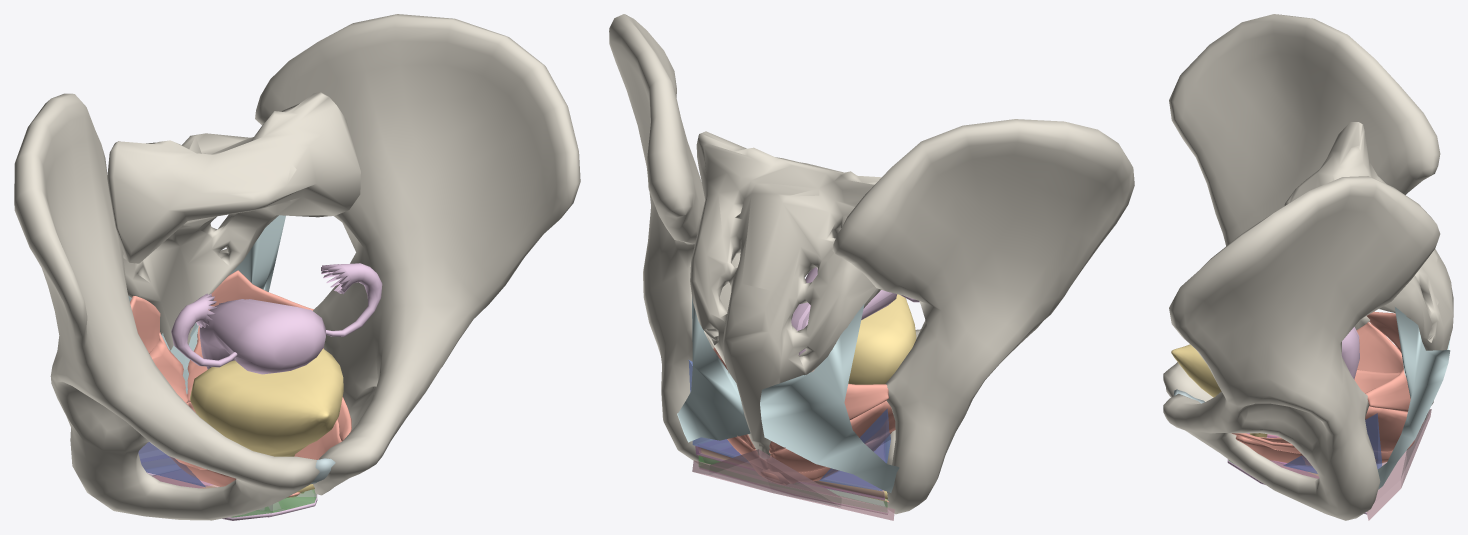
The model's file is perineum.glb.
The picture shows the model from 3 angles, left to right: view 1: azimuth 30°, elevation 25°; view 2: azimuth 150°, elevation 25°; view 3: azimuth 270°, elevation 25°; orthographic projection. The views are drawn at different scales.
Visible parts, largest first — view 1: Pubic Bones, Sacrum, Bladder, Uterus, Coccygeus, Pubococcygeus, Sacrotuberous Ligament, Ischioanal Fossa, Colles' Fascia, Superficial Perineal Pouch, Deep Perineal Pouch, Puborectalis; view 2: Pubic Bones, Sacrum, Sacrotuberous Ligament, Anal Triangle, Bladder, Iliococcygeus, Ischioanal Fossa, Deep Perineal Pouch, Coccygeus, Superficial Perineal Pouch, Uterus, Puborectalis (+2 smaller); view 3: Pubic Bones, Sacrum, Sacrotuberous Ligament, Iliococcygeus, Coccygeus, Anal Triangle, Bladder, Puborectalis, Ischioanal Fossa, Pubococcygeus, Uterus, Deep Perineal Pouch.
Part boxes in pixels (x1,y1,x2,y2): Pubic Bones: (14, 14, 580, 520); Sacrum: (107, 92, 360, 350); Bladder: (190, 348, 343, 456); Uterus: (171, 263, 382, 374); Coccygeus: (130, 270, 313, 353); Pubococcygeus: (149, 325, 341, 459); Sacrotuberous Ligament: (128, 215, 285, 301); Ischioanal Fossa: (138, 442, 205, 487); Colles' Fascia: (222, 490, 317, 520); Superficial Perineal Pouch: (230, 489, 316, 517); Deep Perineal Pouch: (140, 455, 219, 488); Puborectalis: (169, 402, 235, 486); Pubic Bones: (609, 14, 1134, 514); Sacrum: (690, 131, 881, 458); Sacrotuberous Ligament: (677, 297, 899, 492); Anal Triangle: (692, 449, 894, 520); Bladder: (848, 294, 916, 384); Iliococcygeus: (727, 400, 895, 472); Ischioanal Fossa: (688, 360, 890, 491); Deep Perineal Pouch: (695, 440, 885, 500); Coccygeus: (713, 347, 889, 453); Superficial Perineal Pouch: (698, 455, 887, 512); Uterus: (791, 267, 919, 355); Puborectalis: (750, 432, 891, 483); Pubic Bones: (1163, 14, 1440, 520); Sacrum: (1284, 122, 1453, 420); Sacrotuberous Ligament: (1378, 307, 1450, 489); Iliococcygeus: (1231, 322, 1423, 453); Coccygeus: (1365, 311, 1410, 411); Anal Triangle: (1366, 409, 1431, 520); Bladder: (1171, 344, 1267, 437); Puborectalis: (1235, 433, 1392, 467); Ischioanal Fossa: (1283, 413, 1382, 473); Pubococcygeus: (1236, 369, 1399, 443); Uterus: (1341, 327, 1359, 379); Deep Perineal Pouch: (1247, 433, 1319, 478).
Bounding box in the file's own units: 9.46 × 7.33 × 5.16.
